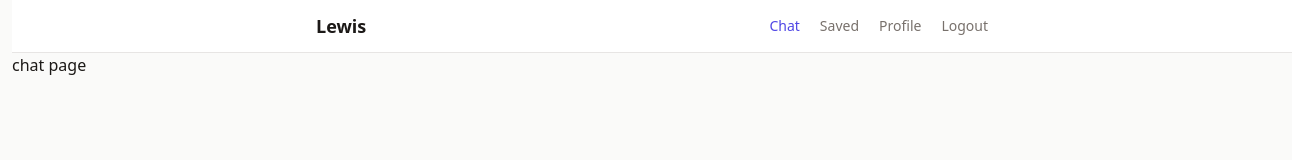
Test: AppLayout › logs out and navigates to /login on Logout click
Click the button "Logout" at (965, 26), box left=941, top=16, right=988, bottom=36
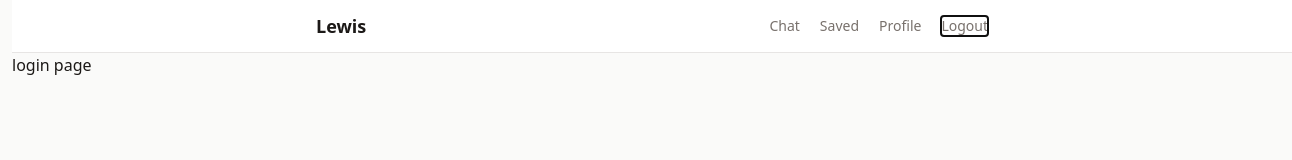
Result: the text "login page" is shown at left=12, top=54, right=92, bottom=76
